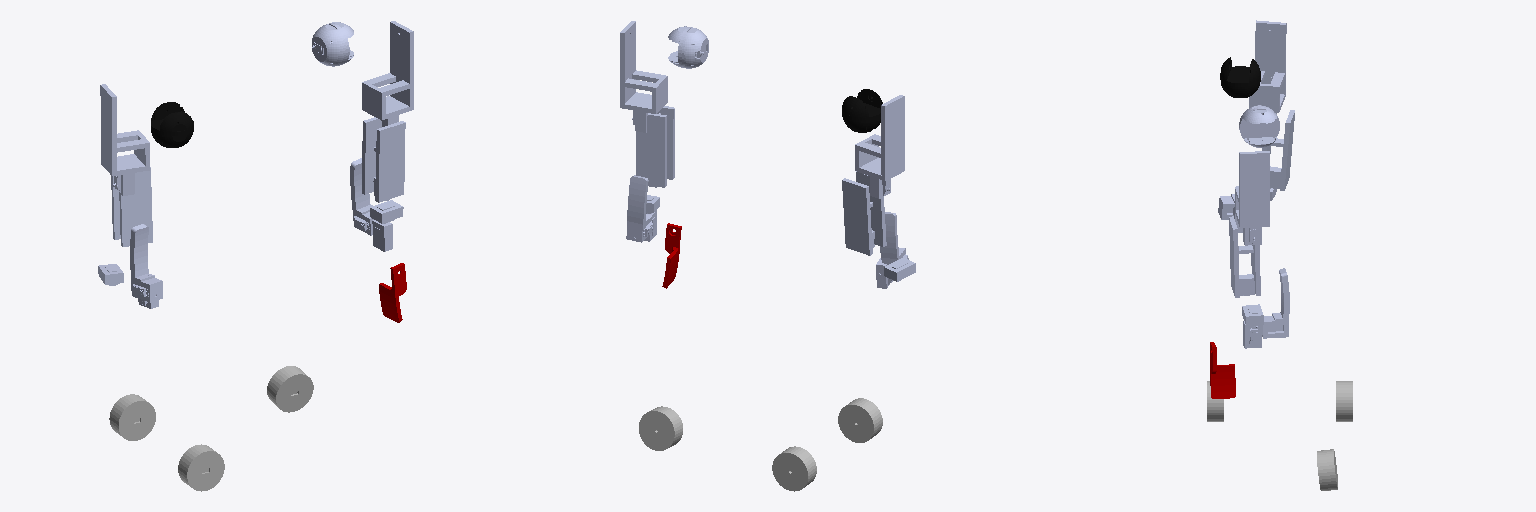
--- Facts derived from the render (not from the file) ---
3 views of the same robot in one strip: view 1: azimuth 30°, elevation 25°; view 2: azimuth 150°, elevation 25°; view 3: azimuth 270°, elevation 25° (orthographic).
Robot: ardop3_final — 20 links, 19 joints (18 continuous, 1 fixed); root link odom; default pose: all joints at 0.
Visible links, largest first — view 1: bicep_left_Link, forearm_left_Link, bicep_right_Link, forearm_right_Link, wheel_front_right_Link, wheel_back_right_Link, wrist3_right_Link, wheel_back_left_Link, shoulder_right_Link, shoulder_left_Link, wrist3_left_Link, end_effector_left_Link (+2 smaller); view 2: bicep_right_Link, bicep_left_Link, forearm_right_Link, forearm_left_Link, wheel_back_left_Link, wheel_front_right_Link, wheel_back_right_Link, shoulder_right_Link, wrist3_left_Link, shoulder_left_Link, end_effector_left_Link, wrist3_right_Link (+1 smaller); view 3: bicep_left_Link, bicep_right_Link, forearm_left_Link, shoulder_left_Link, shoulder_right_Link, forearm_right_Link, end_effector_left_Link, wrist3_left_Link, wheel_back_left_Link, wheel_back_right_Link.
Link boxes in pixels (x1=…): bicep_left_Link: x1=362, y1=21, x2=413, y2=126; forearm_left_Link: x1=362, y1=117, x2=405, y2=202; bicep_right_Link: x1=100, y1=84, x2=149, y2=195; forearm_right_Link: x1=111, y1=167, x2=152, y2=246; wheel_front_right_Link: x1=178, y1=444, x2=224, y2=491; wheel_back_right_Link: x1=109, y1=394, x2=155, y2=440; wrist3_right_Link: x1=130, y1=224, x2=162, y2=302; wheel_back_left_Link: x1=267, y1=366, x2=313, y2=412; shoulder_right_Link: x1=151, y1=102, x2=193, y2=147; shoulder_left_Link: x1=312, y1=22, x2=353, y2=66; wrist3_left_Link: x1=350, y1=158, x2=373, y2=235; end_effector_left_Link: x1=379, y1=263, x2=406, y2=322; bicep_right_Link: x1=855, y1=95, x2=904, y2=198; bicep_left_Link: x1=620, y1=21, x2=667, y2=132; forearm_right_Link: x1=842, y1=171, x2=886, y2=255; forearm_left_Link: x1=636, y1=106, x2=674, y2=187; wheel_back_left_Link: x1=639, y1=406, x2=682, y2=450; wheel_front_right_Link: x1=838, y1=398, x2=882, y2=442; wheel_back_right_Link: x1=772, y1=446, x2=816, y2=491; shoulder_right_Link: x1=842, y1=89, x2=882, y2=132; wrist3_left_Link: x1=626, y1=175, x2=653, y2=242; shoulder_left_Link: x1=668, y1=26, x2=708, y2=68; end_effector_left_Link: x1=662, y1=223, x2=681, y2=288; wrist3_right_Link: x1=880, y1=212, x2=908, y2=264; bicep_left_Link: x1=1235, y1=151, x2=1269, y2=245; bicep_right_Link: x1=1249, y1=20, x2=1286, y2=113; forearm_left_Link: x1=1229, y1=216, x2=1260, y2=297; shoulder_left_Link: x1=1239, y1=105, x2=1279, y2=147; shoulder_right_Link: x1=1220, y1=57, x2=1260, y2=97; forearm_right_Link: x1=1262, y1=110, x2=1294, y2=190; end_effector_left_Link: x1=1210, y1=342, x2=1235, y2=398; wrist3_left_Link: x1=1262, y1=268, x2=1289, y2=338; wheel_back_left_Link: x1=1317, y1=449, x2=1337, y2=490; wheel_back_right_Link: x1=1336, y1=381, x2=1352, y2=421.
Size in the robot's own frame: 0.8048 by 0.3582 by 1.04 metres.
16 mesh visuals loaded from 19 distinct referenced files (16 binary STL); not drawn: 3 (reference not matched to a file when rendering).

URDF robot description (ardop3_final):
<robot
  name="ardop3_final">
   <link name="odom" />

  <link
    name="base_link">
    <inertial>
      <origin
        xyz="0.23536 -0.35638 -0.15938"
        rpy="0 0 0" />
      <mass
        value="62.974" />
      <inertia
        ixx="3.1454"
        ixy="0.00068699"
        ixz="-0.0027041"
        iyy="3.0973"
        iyz="0.015046"
        izz="0.051979" />
    </inertial>
    <visual>
      <origin
        xyz="0 0 0"
        rpy="0 0 0" />
      <geometry>
        <mesh
          filename="package://ardop3_final/meshes/base_link.STL" />
      </geometry>
      <material
        name="">
        <color
          rgba="0.79216 0.81961 0.93333 1" />
      </material>
    </visual>
    <collision>
      <origin
        xyz="0 0 0"
        rpy="0 0 0" />
      <geometry>
        <mesh
          filename="package://ardop3_final/meshes/base_link.STL" />
      </geometry>
    </collision>
  </link>


      <joint
    name="odom_joint"
    type="fixed">
    <parent
      link="odom" />
    <child
      link="base_link" />
  </joint>



  <link
    name="wheel_front_left_Link">
    <inertial>
      <origin
        xyz="0.0075 -1.1546E-14 2.548E-14"
        rpy="0 0 0" />
      <mass
        value="2.00" />
      <inertia
        ixx="0"
        ixy="0"
        ixz="0"
        iyy="0"
        iyz="0"
        izz="0" />
    </inertial>
    <visual>
      <origin
        xyz="0 0 0"
        rpy="0 0 0" />
      <geometry>
        <mesh
          filename="package://ardop3_final/meshes/wheel_front_left_Link.STL" />
      </geometry>
      <material
        name="">
        <color
          rgba="0.75294 0.75294 0.75294 1" />
      </material>
    </visual>
    <collision>
      <origin
        xyz="0 0 0"
        rpy="0 0 0" />
      <geometry>
        <mesh
          filename="package://ardop3_final/meshes/wheel_front_left_Link.STL" />
      </geometry>
    </collision>
  </link>
  <joint
    name="wheel_front_left_joint"
    type="continuous">
    <origin
      xyz="0.42534 -0.50619 -0.47879"
      rpy="0.85877 0 0" />
    <parent
      link="base_link" />
    <child
      link="wheel_front_left_Link" />
    <axis
      xyz="1 0 0" />
  </joint>
  <link
    name="wheel_front_right_Link">
    <inertial>
      <origin
        xyz="0.0075 -1.7764E-15 3.8525E-14"
        rpy="0 0 0" />
      <mass
        value="2" />
      <inertia
        ixx="0"
        ixy="0"
        ixz="0"
        iyy="0"
        iyz="0"
        izz="0" />
    </inertial>
    <visual>
      <origin
        xyz="0 0 0"
        rpy="0 0 0" />
      <geometry>
        <mesh
          filename="package://ardop3_final/meshes/wheel_front_right_Link.STL" />
      </geometry>
      <material
        name="">
        <color
          rgba="0.75294 0.75294 0.75294 1" />
      </material>
    </visual>
    <collision>
      <origin
        xyz="0 0 0"
        rpy="0 0 0" />
      <geometry>
        <mesh
          filename="package://ardop3_final/meshes/wheel_front_right_Link.STL" />
      </geometry>
    </collision>
  </link>
  <joint
    name="wheel_front_right_joint"
    type="continuous">
    <origin
      xyz="0.030335 -0.50619 -0.47879"
      rpy="1.5708 0 0" />
    <parent
      link="base_link" />
    <child
      link="wheel_front_right_Link" />
    <axis
      xyz="1 0 0" />
  </joint>
  <link
    name="wheel_back_left_Link">
    <inertial>
      <origin
        xyz="0.0075 -8.0491E-15 3.7748E-15"
        rpy="0 0 0" />
      <mass
        value="2" />
      <inertia
        ixx="0"
        ixy="0"
        ixz="0"
        iyy="0"
        iyz="0"
        izz="0" />
    </inertial>
    <visual>
      <origin
        xyz="0 0 0"
        rpy="0 0 0" />
      <geometry>
        <mesh
          filename="package://ardop3_final/meshes/wheel_back_left_Link.STL" />
      </geometry>
      <material
        name="">
        <color
          rgba="0.75294 0.75294 0.75294 1" />
      </material>
    </visual>
    <collision>
      <origin
        xyz="0 0 0"
        rpy="0 0 0" />
      <geometry>
        <mesh
          filename="package://ardop3_final/meshes/wheel_back_left_Link.STL" />
      </geometry>
    </collision>
  </link>
  <joint
    name="wheel_back_left_joint"
    type="continuous">
    <origin
      xyz="0.42534 -0.19004 -0.47879"
      rpy="1.6891 0 0" />
    <parent
      link="base_link" />
    <child
      link="wheel_back_left_Link" />
    <axis
      xyz="1 0 0" />
  </joint>
  <link
    name="wheel_back_right_Link">
    <inertial>
      <origin
        xyz="0.0075 -1.7764E-15 3.8525E-14"
        rpy="0 0 0" />
      <mass
        value="2" />
      <inertia
        ixx="0"
        ixy="0"
        ixz="0"
        iyy="0"
        iyz="0"
        izz="0" />
    </inertial>
    <visual>
      <origin
        xyz="0 0 0"
        rpy="0 0 0" />
      <geometry>
        <mesh
          filename="package://ardop3_final/meshes/wheel_back_right_Link.STL" />
      </geometry>
      <material
        name="">
        <color
          rgba="0.75294 0.75294 0.75294 1" />
      </material>
    </visual>
    <collision>
      <origin
        xyz="0 0 0"
        rpy="0 0 0" />
      <geometry>
        <mesh
          filename="package://ardop3_final/meshes/wheel_back_right_Link.STL" />
      </geometry>
    </collision>
  </link>
  <joint
    name="wheel_back_right_joint"
    type="continuous">
    <origin
      xyz="0.030335 -0.19004 -0.47879"
      rpy="1.5708 0 0" />
    <parent
      link="base_link" />
    <child
      link="wheel_back_right_Link" />
    <axis
      xyz="1 0 0" />
  </joint>
  <link
    name="shoulder_right_Link">
    <inertial>
      <origin
        xyz="0.008031 0.036032 0.043945"
        rpy="0 0 0" />
      <mass
        value="0.20851" />
      <inertia
        ixx="0.00"
        ixy="0.00"
        ixz="0.00"
        iyy="0.00"
        iyz="0.00"
        izz="0.00" />
    </inertial>
    <visual>
      <origin
        xyz="0 0 0"
        rpy="0 0 0" />
      <geometry>
        <mesh
          filename="package://ardop3_final/meshes/shoulder_right_Link.STL" />
      </geometry>
      <material
        name="">
        <color
          rgba="0.098039 0.098039 0.098039 1" />
      </material>
    </visual>
    <collision>
      <origin
        xyz="0 0 0"
        rpy="0 0 0" />
      <geometry>
        <mesh
          filename="package://ardop3_final/meshes/shoulder_right_Link.STL" />
      </geometry>
    </collision>
  </link>
  <joint
    name="shoulder_right_joint"
    type="continuous">
    <origin
      xyz="-0.0058888 -0.36975 0.40275"
      rpy="-1.0091E-17 6.0393E-17 1.4052" />
    <parent
      link="base_link" />
    <child
      link="shoulder_right_Link" />
    <axis
      xyz="0 0 1" />
      		<limit
			effort="300"
			velocity="3"
			lower="-0.45"
			upper="1.10" />
		<dynamics 
			damping="50" 
			friction="1" />

  </joint>
  <link
    name="bicep_right_Link">
    <inertial>
      <origin
        xyz="0.034239 -0.094496 -0.012958"
        rpy="0 0 0" />
      <mass
        value="0.5828" />
      <inertia
        ixx="0.00"
        ixy="0.00"
        ixz="0.00"
        iyy="0.00"
        iyz="0.00"
        izz="0.00" />
    </inertial>
    <visual>
      <origin
        xyz="0 0 0"
        rpy="0 0 0" />
      <geometry>
        <mesh
          filename="package://ardop3_final/meshes/bicep_right_Link.STL" />
      </geometry>
      <material
        name="">
        <color
          rgba="0.79216 0.81961 0.93333 1" />
      </material>
    </visual>
    <collision>
      <origin
        xyz="0 0 0"
        rpy="0 0 0" />
      <geometry>
        <mesh
          filename="package://ardop3_final/meshes/bicep_right_Link.STL" />
      </geometry>
    </collision>
  </link>
  <joint
    name="bicep_right_joint"
    type="continuous">
    <origin
      xyz="0.0026622 0.055751 0.04"
      rpy="1.5837 -4.5667E-16 1.5708" />
    <parent
      link="shoulder_right_Link" />
    <child
      link="bicep_right_Link" />
    <axis
      xyz="-1 0 0" />
            		<limit
			effort="300"
			velocity="3"
			lower="-0.45"
			upper="1.10" />
		<dynamics 
			damping="50" 
			friction="1" />
  </joint>
  <link
    name="forearm_right_Link">
    <inertial>
      <origin
        xyz="0.035742 -0.11544 -0.0072022"
        rpy="0 0 0" />
      <mass
        value="0.4986" />
      <inertia
        ixx="0.00"
        ixy="0.00"
        ixz="0.00"
        iyy="0.00"
        iyz="0.00"
        izz="0.00" />
    </inertial>
    <visual>
      <origin
        xyz="0 0 0"
        rpy="0 0 0" />
      <geometry>
        <mesh
          filename="package://ardop3_final/meshes/forearm_right_Link.STL" />
      </geometry>
      <material
        name="">
        <color
          rgba="0.79216 0.81961 0.93333 1" />
      </material>
    </visual>
    <collision>
      <origin
        xyz="0 0 0"
        rpy="0 0 0" />
      <geometry>
        <mesh
          filename="package://ardop3_final/meshes/forearm_right_Link.STL" />
      </geometry>
    </collision>
  </link>
  <joint
    name="forearm_right_joint"
    type="continuous">
    <origin
      xyz="0.0094954 -0.20676 -0.00095309"
      rpy="0.065442 2.7756E-17 -9.3241E-16" />
    <parent
      link="bicep_right_Link" />
    <child
      link="forearm_right_Link" />
    <axis
      xyz="-1 0 0" />
            		<limit
			effort="300"
			velocity="3"
			lower="-0.45"
			upper="1.10" />
		<dynamics 
			damping="50" 
			friction="1" />
  </joint>
  <link
    name="wrist_right_Link">
    <inertial>
      <origin
        xyz="0.0016567 -0.0025515 0.025349"
        rpy="0 0 0" />
      <mass
        value="0.10422" />
      <inertia
        ixx="0.00"
        ixy="0.00"
        ixz="0.00"
        iyy="0.00"
        iyz="0.00"
        izz="0.00" />
    </inertial>
    <visual>
      <origin
        xyz="0 0 0"
        rpy="0 0 0" />
      <geometry>
        <mesh
          filename="package://ardop3_final/meshes/wrist_right_Link.STL" />
      </geometry>
      <material
        name="">
        <color
          rgba="0.79216 0.81961 0.93333 1" />
      </material>
    </visual>
    <collision>
      <origin
        xyz="0 0 0"
        rpy="0 0 0" />
      <geometry>
        <mesh
          filename="package://ardop3_final/meshes/wrist_right_Link.STL" />
      </geometry>
    </collision>
  </link>
  <joint
    name="wrist_right_joint"
    type="continuous">
    <origin
      xyz="0.046015 -0.227 0"
      rpy="1.5708 -0.11078 1.5499E-15" />
    <parent
      link="forearm_right_Link" />
    <child
      link="wrist_right_Link" />
    <axis
      xyz="-0.0086546 -0.077803 -0.99693" />
            		<limit
			effort="300"
			velocity="3"
			lower="-0.45"
			upper="1.10" />
		<dynamics 
			damping="50" 
			friction="1" />
  </joint>
  <link
    name="wrist2_right_Link">
    <inertial>
      <origin
        xyz="0.014104 -0.0027203 0.031031"
        rpy="0 0 0" />
      <mass
        value="0.10052" />
      <inertia
        ixx="0.00"
        ixy="0.00"
        ixz="0.00"
        iyy="0.00"
        iyz="0.00"
        izz="0.00" />
    </inertial>
    <visual>
      <origin
        xyz="0 0 0"
        rpy="0 0 0" />
      <geometry>
        <mesh
          filename="package://ardop3_final/meshes/wrist2_right_Link.STL" />
      </geometry>
      <material
        name="">
        <color
          rgba="0.79216 0.81961 0.93333 1" />
      </material>
    </visual>
    <collision>
      <origin
        xyz="0 0 0"
        rpy="0 0 0" />
      <geometry>
        <mesh
          filename="package://ardop3_final/meshes/wrist2_right_Link.STL" />
      </geometry>
    </collision>
  </link>
  <joint
    name="wrist2_right_joint"
    type="continuous">
    <origin
      xyz="-0.045183 -0.0059131 0.039398"
      rpy="-1.5489 0.0095341 -2.0545" />
    <parent
      link="wrist_right_Link" />
    <child
      link="wrist2_right_Link" />
    <axis
      xyz="0 0 -1" />
            		<limit
			effort="300"
			velocity="3"
			lower="-0.45"
			upper="1.10" />
		<dynamics 
			damping="50" 
			friction="1" />
  </joint>
  <link
    name="wrist3_right_Link">
    <inertial>
      <origin
        xyz="0.043625 -0.093581 0.018325"
        rpy="0 0 0" />
      <mass
        value="0.23397" />
      <inertia
        ixx="0.00"
        ixy="0.00"
        ixz="0.00"
        iyy="0.00"
        iyz="0.00"
        izz="0.00"/>
    </inertial>
    <visual>
      <origin
        xyz="0 0 0"
        rpy="0 0 0" />
      <geometry>
        <mesh
          filename="package://ardop3_final/meshes/wrist3_right_Link.STL" />
      </geometry>
      <material
        name="">
        <color
          rgba="0.79216 0.81961 0.93333 1" />
      </material>
    </visual>
    <collision>
      <origin
        xyz="0 0 0"
        rpy="0 0 0" />
      <geometry>
        <mesh
          filename="package://ardop3_final/meshes/wrist3_right_Link.STL" />
      </geometry>
    </collision>
  </link>
  <joint
    name="wrist3_right_joint"
    type="continuous">
    <origin
      xyz="0.01492 0 0.024641"
      rpy="-0.04401 1.3878E-15 -8.4655E-16" />
    <parent
      link="wrist2_right_Link" />
    <child
      link="wrist3_right_Link" />
    <axis
      xyz="1 0 0" />
            		<limit
			effort="300"
			velocity="3"
			lower="-0.45"
			upper="1.10" />
		<dynamics 
			damping="50" 
			friction="1" />
  </joint>
  <link
    name="end_effector_right_Link">
    <inertial>
      <origin
        xyz="0.025925 -0.035853 0.078039"
        rpy="0 0 0" />
      <mass
        value="0.07271" />
      <inertia
        ixx="0"
        ixy="0"
        ixz="0"
        iyy="0"
        iyz="0"
        izz="0" />
    </inertial>
    <visual>
      <origin
        xyz="0 0 0"
        rpy="0 0 0" />
      <geometry>
        <mesh
          filename="package://ardop3_final/meshes/end_effector_right_Link.STL" />
      </geometry>
      <material
        name="">
        <color
          rgba="0.75294 0 0 1" />
      </material>
    </visual>
    <collision>
      <origin
        xyz="0 0 0"
        rpy="0 0 0" />
      <geometry>
        <mesh
          filename="package://ardop3_final/meshes/end_effector_right_Link.STL" />
      </geometry>
    </collision>
  </link>
  <joint
    name="end_effector_right_joint"
    type="continuous">
    <origin
      xyz="0.0077442 -0.068318 0.016305"
      rpy="9.9928E-15 -1.4511 1.5708" />
    <parent
      link="wrist3_right_Link" />
    <child
      link="end_effector_right_Link" />
    <axis
      xyz="0 -1 0" />
            		<limit
			effort="300"
			velocity="3"
			lower="-0.45"
			upper="1.10" />
		<dynamics 
			damping="50" 
			friction="1" />
  </joint>
  <link
    name="shoulder_left_Link">
    <inertial>
      <origin
        xyz="-0.013011 0.043945 0.034563"
        rpy="0 0 0" />
      <mass
        value="0.20851" />
      <inertia
        ixx="0.00"
        ixy="0.00"
        ixz="0.00"
        iyy="0.00"
        iyz="0.00"
        izz="0.00" />
    </inertial>
    <visual>
      <origin
        xyz="0 0 0"
        rpy="0 0 0" />
      <geometry>
        <mesh
          filename="package://ardop3_final/meshes/shoulder_left_Link.STL" />
      </geometry>
      <material
        name="">
        <color
          rgba="0.79216 0.81961 0.93333 1" />
      </material>
    </visual>
    <collision>
      <origin
        xyz="0 0 0"
        rpy="0 0 0" />
      <geometry>
        <mesh
          filename="package://ardop3_final/meshes/shoulder_left_Link.STL" />
      </geometry>
    </collision>
  </link>
  <joint
    name="shoulder_left_joint"
    type="continuous">
    <origin
      xyz="0.47191 -0.36975 0.40275"
      rpy="1.5708 6.0648E-17 1.7088" />
    <parent
      link="base_link" />
    <child
      link="shoulder_left_Link" />
    <axis
      xyz="0 1 0" />
            		<limit
			effort="300"
			velocity="3"
			lower="-0.45"
			upper="1.10" />
		<dynamics 
			damping="50" 
			friction="1" />
  </joint>
  <link
    name="bicep_left_Link">
    <inertial>
      <origin
        xyz="0.025363 -0.094315 1.1749E-05"
        rpy="0 0 0" />
      <mass
        value="0.58271" />
      <inertia
        ixx="0.00"
        ixy="0.00"
        ixz="0.00"
        iyy="0.00"
        iyz="0.00"
        izz="0.00" />
    </inertial>
    <visual>
      <origin
        xyz="0 0 0"
        rpy="0 0 0" />
      <geometry>
        <mesh
          filename="package://ardop3_final/meshes/bicep_left_Link.STL" />
      </geometry>
      <material
        name="">
        <color
          rgba="0.79216 0.81961 0.93333 1" />
      </material>
    </visual>
    <collision>
      <origin
        xyz="0 0 0"
        rpy="0 0 0" />
      <geometry>
        <mesh
          filename="package://ardop3_final/meshes/bicep_left_Link.STL" />
      </geometry>
    </collision>
  </link>
  <joint
    name="bicep_left_joint"
    type="continuous">
    <origin
      xyz="-0.02288 0.04 0.065349"
      rpy="-1.5786 -1.5708 1.5786" />
    <parent
      link="shoulder_left_Link" />
    <child
      link="bicep_left_Link" />
    <axis
      xyz="1 0 0" />
            		<limit
			effort="300"
			velocity="3"
			lower="-0.45"
			upper="1.10" />
		<dynamics 
			damping="50" 
			friction="1" />
  </joint>
  <link
    name="forearm_left_Link">
    <inertial>
      <origin
        xyz="0.025472 -0.11452 -2.2204E-16"
        rpy="0 0 0" />
      <mass
        value="0.49851" />
      <inertia
        ixx="0.00"
        ixy="0.00"
        ixz="0.00"
        iyy="0.00"
        iyz="0.00"
        izz="0.00" />
    </inertial>
    <visual>
      <origin
        xyz="0 0 0"
        rpy="0 0 0" />
      <geometry>
        <mesh
          filename="package://ardop3_final/meshes/forearm_left_Link.STL" />
      </geometry>
      <material
        name="">
        <color
          rgba="0.79216 0.81961 0.93333 1" />
      </material>
    </visual>
    <collision>
      <origin
        xyz="0 0 0"
        rpy="0 0 0" />
      <geometry>
        <mesh
          filename="package://ardop3_final/meshes/forearm_left_Link.STL" />
      </geometry>
    </collision>
  </link>
  <joint
    name="forearm_left_joint"
    type="continuous">
    <origin
      xyz="0.011557 -0.20676 -0.00095309"
      rpy="0.027216 -8.3267E-17 -4.6404E-17" />
    <parent
      link="bicep_left_Link" />
    <child
      link="forearm_left_Link" />
    <axis
      xyz="1 0 0" />
            		<limit
			effort="300"
			velocity="3"
			lower="-0.45"
			upper="1.10" />
		<dynamics 
			damping="50" 
			friction="1" />
  </joint>
  <link
    name="wrist_left_Link">
    <inertial>
      <origin
        xyz="0.0095256 0.00061503 0.025592"
        rpy="0 0 0" />
      <mass
        value="0.10422" />
      <inertia
        ixx="0.00"
        ixy="0.00"
        ixz="0.00"
        iyy="0.00"
        iyz="0.00"
        izz="0.00" />
    </inertial>
    <visual>
      <origin
        xyz="0 0 0"
        rpy="0 0 0" />
      <geometry>
        <mesh
          filename="package://ardop3_final/meshes/wrist_left_Link.STL" />
      </geometry>
      <material
        name="">
        <color
          rgba="0.79216 0.81961 0.93333 1" />
      </material>
    </visual>
    <collision>
      <origin
        xyz="0 0 0"
        rpy="0 0 0" />
      <geometry>
        <mesh
          filename="package://ardop3_final/meshes/wrist_left_Link.STL" />
      </geometry>
    </collision>
  </link>
  <joint
    name="wrist_left_joint"
    type="continuous">
    <origin
      xyz="0.014138 -0.22586 0"
      rpy="1.5708 -1.5571 -1.2195E-13" />
    <parent
      link="forearm_left_Link" />
    <child
      link="wrist_left_Link" />
    <axis
      xyz="0 0 -1" />
            		<limit
			effort="300"
			velocity="3"
			lower="-0.45"
			upper="1.10" />
		<dynamics 
			damping="50" 
			friction="1" />
  </joint>
  <link
    name="wrist2_left_Link">
    <inertial>
      <origin
        xyz="0.053846 -0.0074042 -0.023249"
        rpy="0 0 0" />
      <mass
        value="0.10043" />
      <inertia
        ixx="0.00"
        ixy="0.00"
        ixz="0.00"
        iyy="0.00"
        iyz="0.00"
        izz="0.00" />
    </inertial>
    <visual>
      <origin
        xyz="0 0 0"
        rpy="0 0 0" />
      <geometry>
        <mesh
          filename="package://ardop3_final/meshes/wrist2_left_Link.STL" />
      </geometry>
      <material
        name="">
        <color
          rgba="0.79216 0.81961 0.93333 1" />
      </material>
    </visual>
    <collision>
      <origin
        xyz="0 0 0"
        rpy="0 0 0" />
      <geometry>
        <mesh
          filename="package://ardop3_final/meshes/wrist2_left_Link.STL" />
      </geometry>
    </collision>
  </link>
  <joint
    name="wrist2_left_joint"
    type="continuous">
    <origin
      xyz="0 0 0.05"
      rpy="1.5708 0.038811 1.5833E-15" />
    <parent
      link="wrist_left_Link" />
    <child
      link="wrist2_left_Link" />
    <axis
      xyz="0 0 1" />
            		<limit
			effort="300"
			velocity="3"
			lower="-0.45"
			upper="1.10" />
		<dynamics 
			damping="50" 
			friction="1" />
  </joint>
  <link
    name="wrist3_left_Link">
    <inertial>
      <origin
        xyz="0.10697 -0.077986 0.01411"
        rpy="0 0 0" />
      <mass
        value="0.23387" />
 <!--     <inertia
        ixx="0.000719"
        ixy="2.8406E-06"
        ixz="-4.2208E-06"
        iyy="4.0736E-05"
        iyz="-0.00014276"
        izz="0.0006842" /> -->
      <inertia
        ixx="0.0"
        ixy="0.00"
        ixz="0.00"
        iyy="0.00"
        iyz="0.00"
        izz="0.0" /> 

    </inertial>
    <visual>
      <origin
        xyz="0 0 0"
        rpy="0 0 0" />
      <geometry>
        <mesh
          filename="package://ardop3_final/meshes/wrist3_left_Link.STL" />
      </geometry>
      <material
        name="">
        <color
          rgba="0.79216 0.81961 0.93333 1" />
      </material>
    </visual>
    <collision>
      <origin
        xyz="0 0 0"
        rpy="0 0 0" />
      <geometry>
        <mesh
          filename="package://ardop3_final/meshes/wrist3_left_Link.STL" />
      </geometry>
    </collision>
  </link>
  <joint
    name="wrist3_left_joint"
    type="continuous">
    <origin
      xyz="0 0 0"
      rpy="-3.0772 -2.7756E-17 2.6784E-15" />
    <parent
      link="wrist2_left_Link" />
    <child
      link="wrist3_left_Link" />
    <axis
      xyz="1 0 0" />
            		<limit
			effort="300"
			velocity="3"
			lower="-0.45"
			upper="1.10" />
		<dynamics 
			damping="50" 
			friction="1" />
  </joint>
  <link
    name="end_effector_left_Link">
    <inertial>
      <origin
        xyz="0.0080676 -0.045919 0.066609"
        rpy="0 0 0" />
      <mass
        value="0.07271" />
      <inertia
        ixx="0"
        ixy="0"
        ixz="0"
        iyy="0"
        iyz="0"
        izz="0" />
    </inertial>
    <visual>
      <origin
        xyz="0 0 0"
        rpy="0 0 0" />
      <geometry>
        <mesh
          filename="package://ardop3_final/meshes/end_effector_left_Link.STL" />
      </geometry>
      <material
        name="">
        <color
          rgba="0.75294 0 0 1" />
      </material>
    </visual>
    <collision>
      <origin
        xyz="0 0 0"
        rpy="0 0 0" />
      <geometry>
        <mesh
          filename="package://ardop3_final/meshes/end_effector_left_Link.STL" />
      </geometry>
    </collision>
  </link>
  <joint
    name="end_effector_left_joint"
    type="continuous">
    <origin
      xyz="0.081467 -0.059715 0.034648"
      rpy="3.1416 -1.5419 -1.5708" />
    <parent
      link="wrist3_left_Link" />
    <child
      link="end_effector_left_Link" />
    <axis
      xyz="0 -1 0" />
            		<limit
			effort="300"
			velocity="3"
			lower="-0.45"
			upper="1.10" />
		<dynamics 
			damping="50" 
			friction="1" />
  </joint>



<gazebo 
    reference="odom">
  </gazebo>

    <gazebo reference="shoulder_left_link">
      <selfCollide>true</selfCollide>
    </gazebo>
    <gazebo reference="bicep_left_Link">
      <selfCollide>true</selfCollide>
    </gazebo>
    <gazebo reference="forearm_left_Link">
      <selfCollide>true</selfCollide>
    </gazebo>
    <gazebo reference="wrist_left_Link">
      <selfCollide>true</selfCollide>
    </gazebo>
    <gazebo reference="wrist2_left_Link">
      <selfCollide>true</selfCollide>
    </gazebo>
    <gazebo reference="wrist3_left_link">
      <selfCollide>true</selfCollide>
    </gazebo>
    <gazebo reference="end_effector_left_link">
      <selfCollide>true</selfCollide>
    </gazebo>



    <gazebo reference="shoulder_right_link">
      <selfCollide>true</selfCollide>
    </gazebo>
    <gazebo reference="bicep_right_Link">
      <selfCollide>true</selfCollide>
    </gazebo>
    <gazebo reference="forearm_right_Link">
      <selfCollide>true</selfCollide>
    </gazebo>
    <gazebo reference="wrist_right_Link">
      <selfCollide>true</selfCollide>
    </gazebo>
    <gazebo reference="wrist2_right_Link">
      <selfCollide>true</selfCollide>
    </gazebo>
    <gazebo reference="wrist3_right_link">
      <selfCollide>true</selfCollide>
    </gazebo>
    <gazebo reference="end_effector_right_link">
      <selfCollide>true</selfCollide>
    </gazebo>







  <gazebo reference="base_link">
    <material>Gazebo/White</material>
    <turnGravityOff>false</turnGravityOff>
  </gazebo>


  <gazebo reference="wheel_front_left_Link">
    <!--fdir1 value="1 0 0"/-->
    <material>Gazebo/Grey</material>
    <turnGravityOff>false</turnGravityOff>
  </gazebo>

  <gazebo reference="wheel_front_right_Link">
    <!--fdir1 value="1 0 0"/-->
    <material>Gazebo/Grey</material>
    <turnGravityOff>false</turnGravityOff>
  </gazebo>

  <gazebo reference="wheel_back_left_Link">
    <!--fdir1 value="1 0 0"/-->
    <material>Gazebo/Grey</material>
    <turnGravityOff>false</turnGravityOff>
  </gazebo>

  <gazebo reference="wheel_back_right_Link">
    <!--fdir1 value="1 0 0"/-->
    <material>Gazebo/Grey</material>
    <turnGravityOff>false</turnGravityOff>
  </gazebo>




  <gazebo reference="shoulder_left_Link">
    <material>Gazebo/Red</material>
    <turnGravityOff>false</turnGravityOff>
  </gazebo>

  <gazebo reference="bicep_left_Link">
    <material>Gazebo/Red</material>
    <turnGravityOff>false</turnGravityOff>
  </gazebo>

  <gazebo reference="forearm_left_link">
    <material>Gazebo/Red</material>
    <turnGravityOff>false</turnGravityOff>
  </gazebo>

  <gazebo reference="wrist_left_link">
    <material>Gazebo/Red</material>
    <turnGravityOff>false</turnGravityOff>
  </gazebo>

  <gazebo reference="wrist2_left_link">
    <material>Gazebo/Red</material>
    <turnGravityOff>false</turnGravityOff>
  </gazebo>

  <gazebo reference="wrist3_left_link">
    <material>Gazebo/Red</material>
    <turnGravityOff>false</turnGravityOff>
  </gazebo>


  <gazebo reference="end_effector_left_link">
    <material>Gazebo/Blue</material>
    <turnGravityOff>false</turnGravityOff>
  </gazebo>



  <gazebo reference="shoulder_right_Link">
    <material>Gazebo/Red</material>
    <turnGravityOff>false</turnGravityOff>
  </gazebo>

  <gazebo reference="bicep_right_Link">
    <material>Gazebo/Red</material>
    <turnGravityOff>false</turnGravityOff>
  </gazebo>

  <gazebo reference="forearm_right_link">
    <material>Gazebo/Red</material>
    <turnGravityOff>false</turnGravityOff>
  </gazebo>

  <gazebo reference="wrist_right_link">
    <material>Gazebo/Red</material>
    <turnGravityOff>false</turnGravityOff>
  </gazebo>

  <gazebo reference="wrist2_right_link">
    <material>Gazebo/Red</material>
    <turnGravityOff>false</turnGravityOff>
  </gazebo>

  <gazebo reference="wrist3_right_link">
    <material>Gazebo/Red</material>
    <turnGravityOff>false</turnGravityOff>
  </gazebo>


  <gazebo reference="end_effector_right_link">
    <material>Gazebo/Blue</material>
    <turnGravityOff>false</turnGravityOff>
  </gazebo>



  <gazebo>
    <plugin name="differential_drive_controller" filename="libgazebo_ros_diff_drive.so">
      <legacyMode>false</legacyMode>
      <alwaysOn>true</alwaysOn>
      <updateRate>10</updateRate>
      <leftJoint>wheel_front_left_Link</leftJoint>
      <rightJoint>wheel_front_right_Link</rightJoint>
      <wheelSeparation>0.4</wheelSeparation>
      <wheelDiameter>0.2</wheelDiameter>
      <torque>10</torque>
      <commandTopic>cmd_vel</commandTopic>
      <odometryTopic>odom</odometryTopic>
      <odometryFrame>odom</odometryFrame>
      <robotBaseFrame>base_link</robotBaseFrame>
    </plugin>
  </gazebo>


    <gazebo>
    <plugin name="differential_drive_controller" filename="libgazebo_ros_diff_drive.so">
      <legacyMode>false</legacyMode>
      <alwaysOn>true</alwaysOn>
      <updateRate>10</updateRate>
      <leftJoint>wheel_back_left_Link</leftJoint>
      <rightJoint>wheel_back_right_Link</rightJoint>
      <wheelSeparation>0.4</wheelSeparation>
      <wheelDiameter>0.2</wheelDiameter>
      <torque>10</torque>
      <commandTopic>cmd_vel</commandTopic>
      <odometryTopic>odom</odometryTopic>
      <odometryFrame>odom</odometryFrame>
      <robotBaseFrame>base_link</robotBaseFrame>
    </plugin>
  </gazebo>


</robot>
